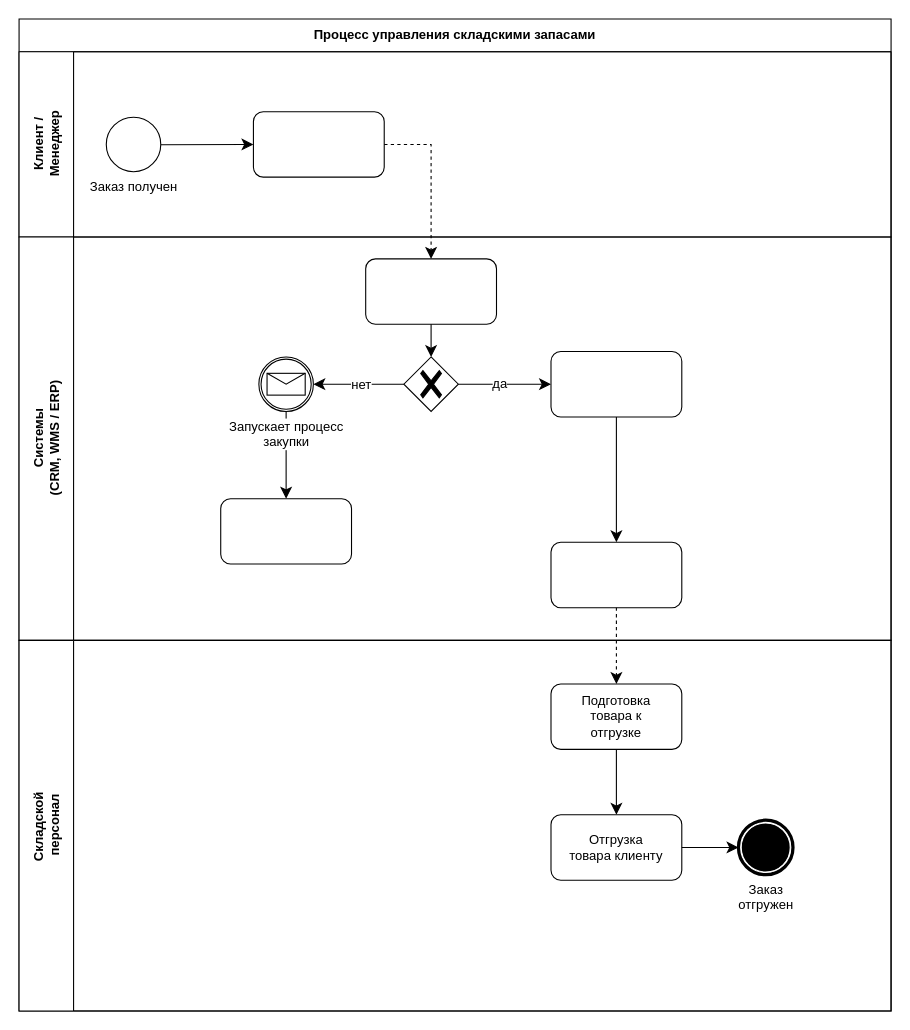
Some shapes in this 910 by 1030 pixel diagram are drawn without their labels. The centre of each missing label's shape, as x and y in pixels:
"Обновление данных о запасах" goes at [616,574].
"Получение заказа от клиента" goes at [318,144].
"Проверка наличия товара на складе" goes at [430,291].
"Резервирование товара для заказа" goes at [616,383].
"Товар отсутствует" goes at [286,531].
